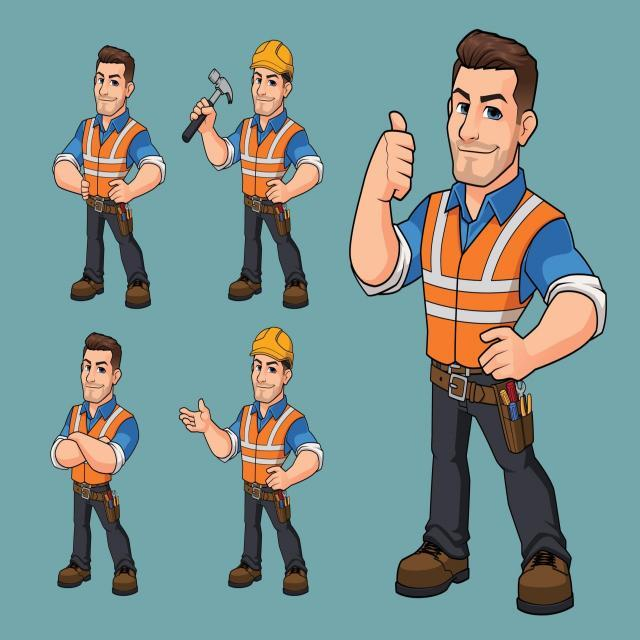reflective_jacket: (417, 179, 570, 374), (237, 111, 314, 202), (78, 112, 155, 202), (238, 400, 311, 487), (64, 400, 133, 486)
safety_helmet: (248, 323, 295, 362), (248, 36, 295, 74)
